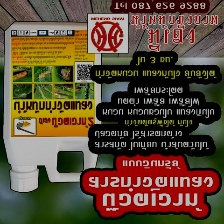insecticide: (0, 19, 104, 196)
